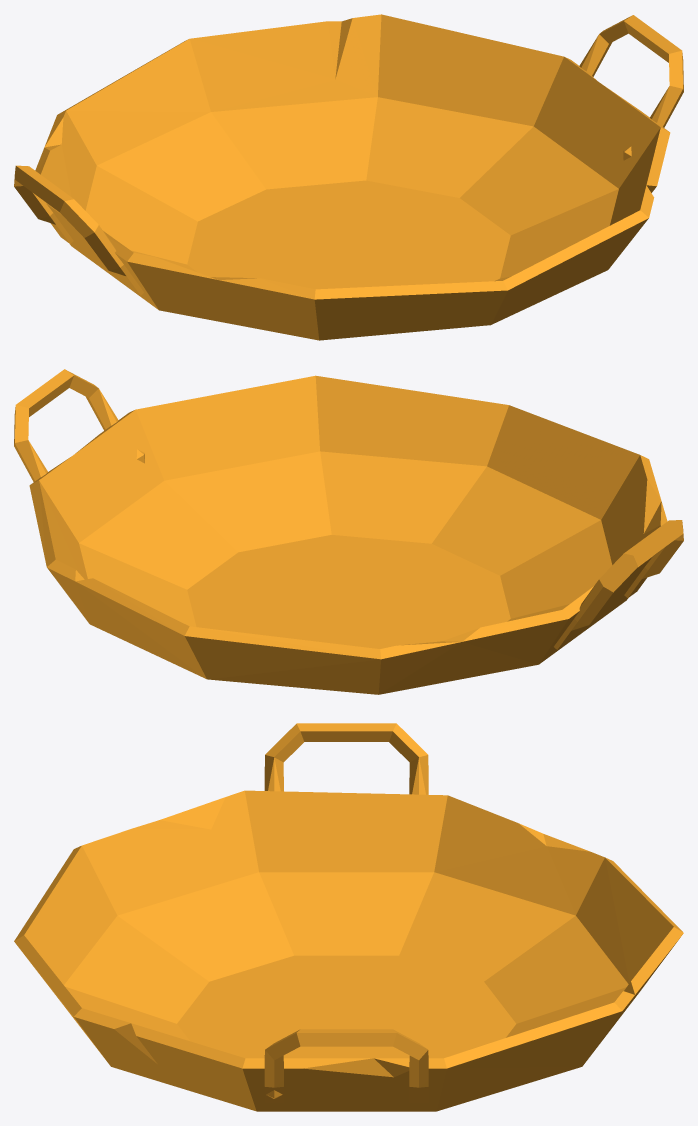
Rendered from SM_Kitchen_Pan_Large_Fantasy.fbx.
The picture shows the model from 3 angles, top to bottom: view 1: azimuth 30°, elevation 25°; view 2: azimuth 150°, elevation 25°; view 3: azimuth 270°, elevation 25°; orthographic projection. The views are drawn at different scales.
Visible parts, largest first — view 1: kitchen-pan-large-fantasy; view 2: kitchen-pan-large-fantasy; view 3: kitchen-pan-large-fantasy.
Part boxes in pixels (x1=…): kitchen-pan-large-fantasy: x1=14, y1=14, x2=683, y2=340; kitchen-pan-large-fantasy: x1=14, y1=369, x2=683, y2=694; kitchen-pan-large-fantasy: x1=14, y1=723, x2=683, y2=1111.
Bounding box in the file's own units: 0.7265 × 0.1698 × 0.6586.
